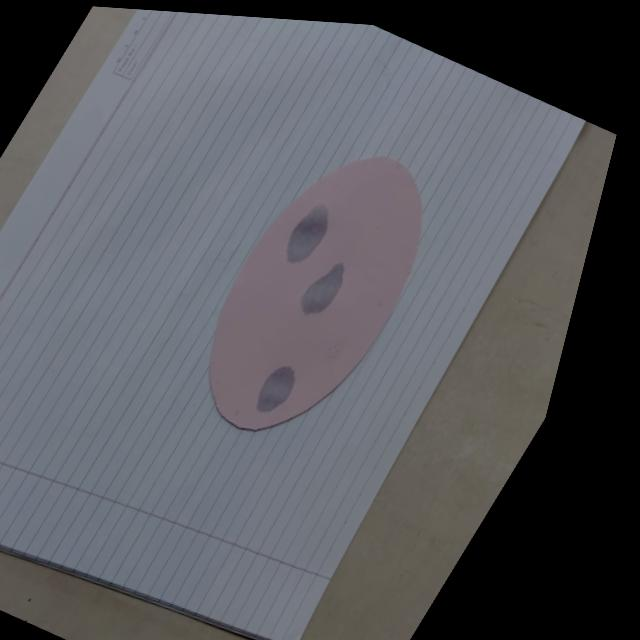BlueColor: (287, 205, 327, 262), (301, 262, 343, 314), (257, 366, 294, 412)
